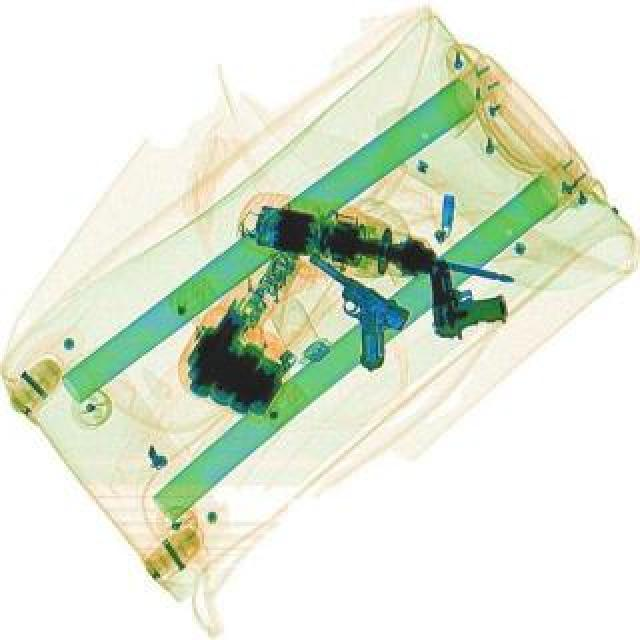gun: (272, 246, 420, 372), (424, 248, 508, 340)
